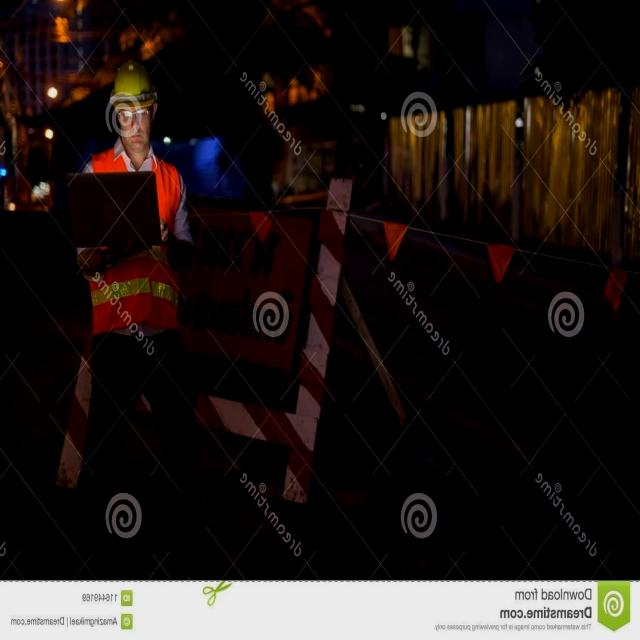face_nomask: (116, 102, 154, 154)
glasses: (117, 98, 154, 125)
head_helmet: (108, 59, 157, 98)
person: (79, 54, 183, 561)
vest: (87, 152, 174, 321)
